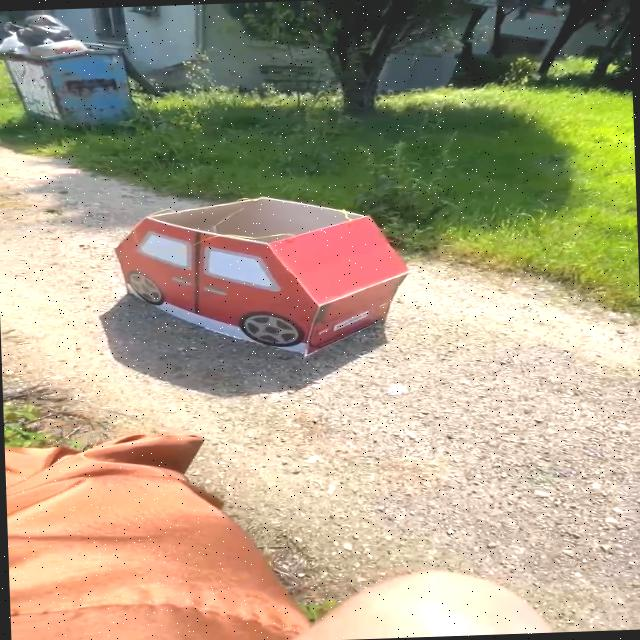red_car: (101, 177, 423, 366)
